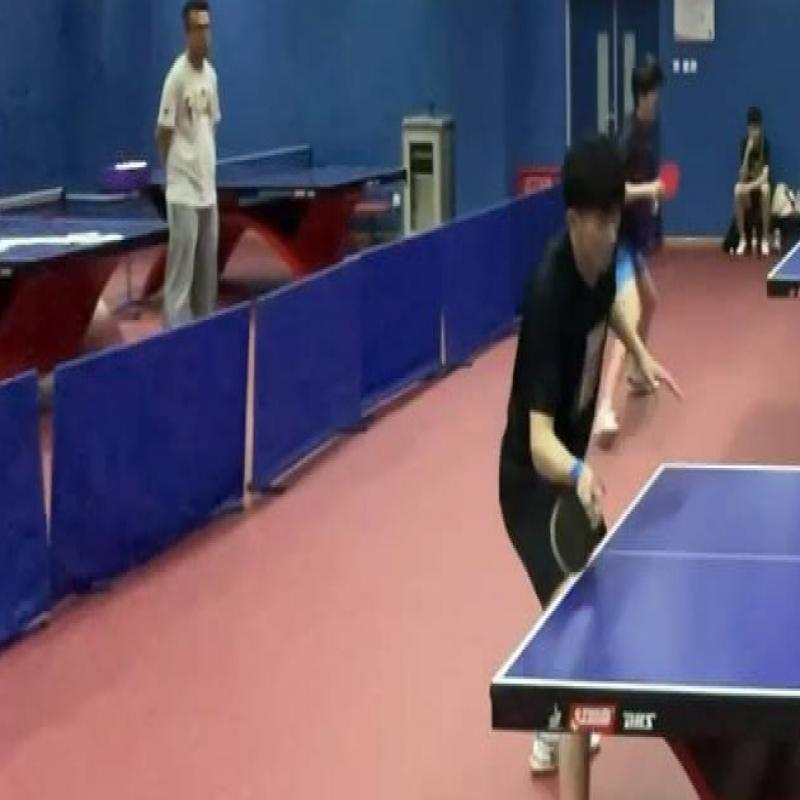bats: (547, 480, 601, 587)
